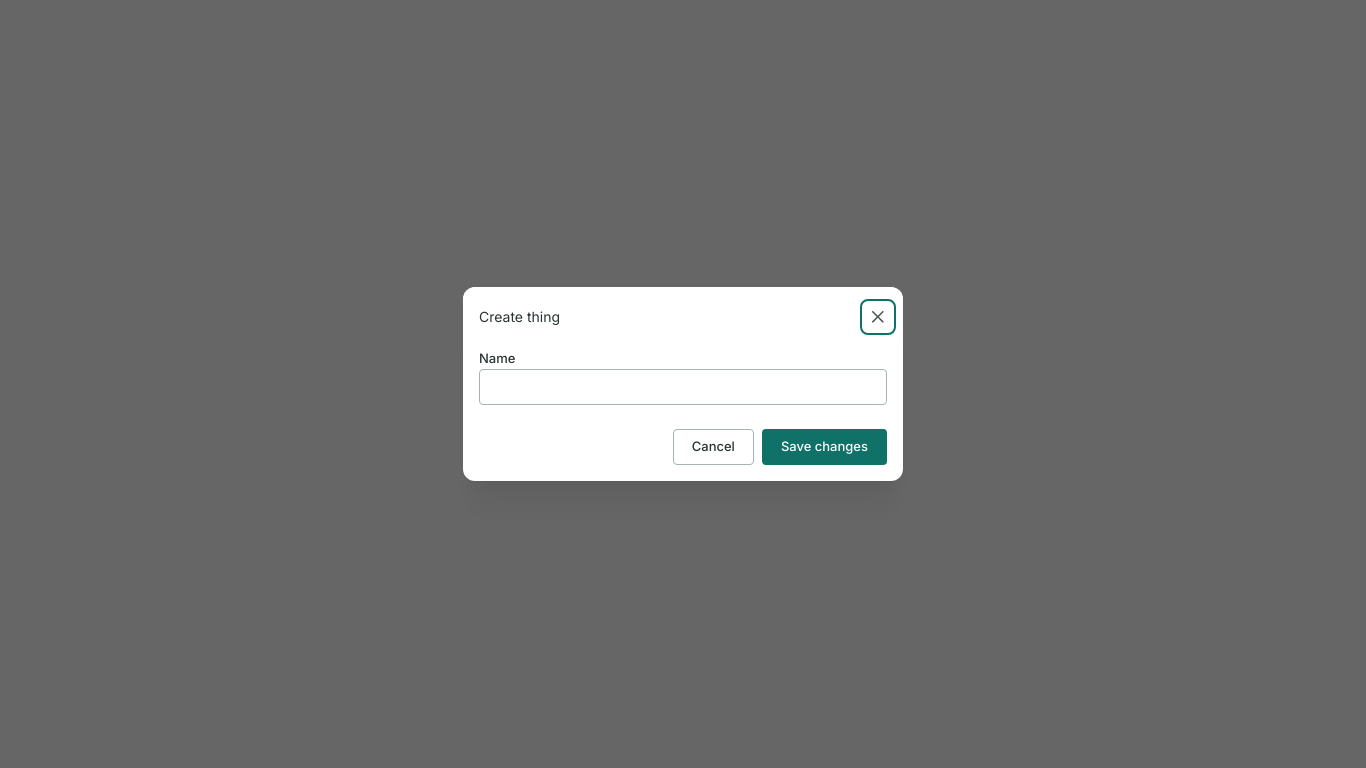
Test case: renderWithProviders error dispatch (D8) › toasts a 402 SUBSCRIPTION_REQUIRED and keeps the dialog open with input intact
Type "New Clinic" into the field labelled "Name" at (683, 387), box [479,369,887,405]
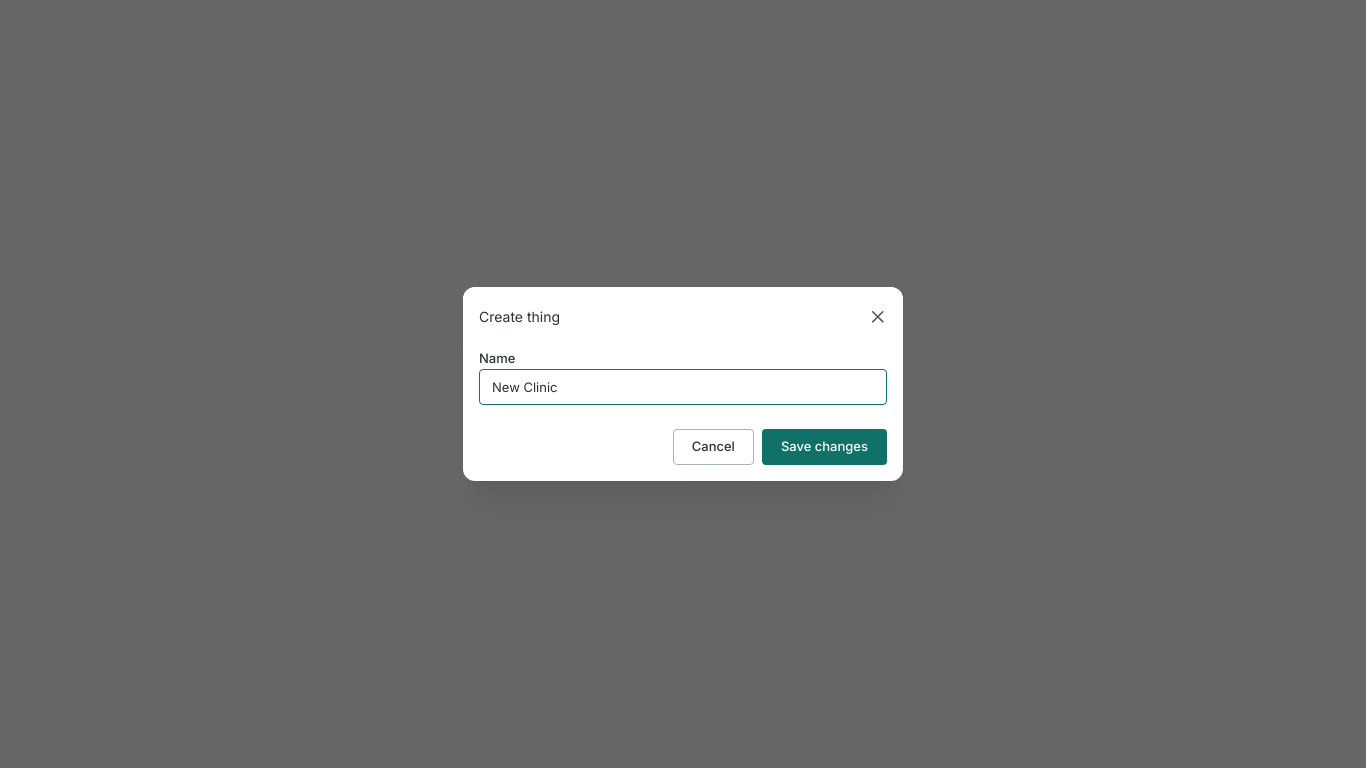
Click the button "Save changes" at (824, 447), box [762,429,887,465]
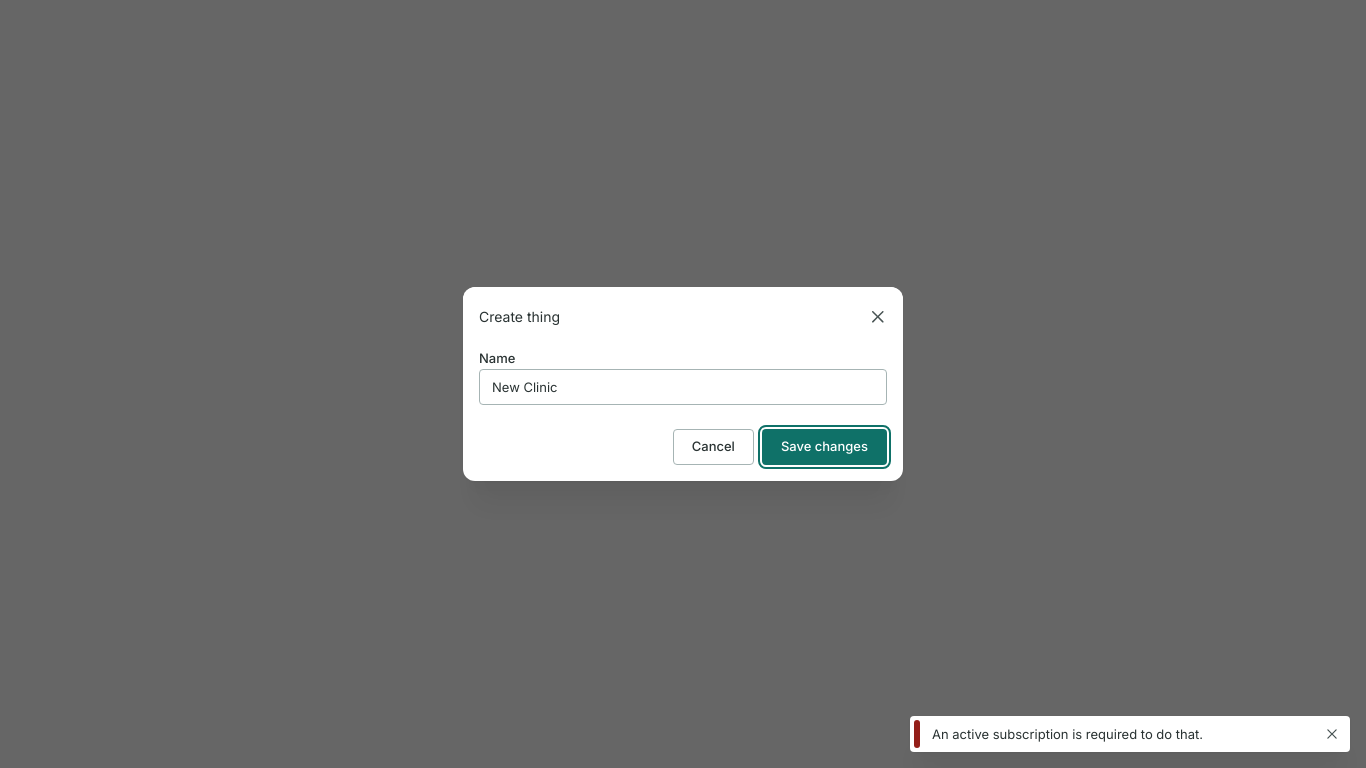
Expected: the dialog "Create thing" is shown, [463,287,903,481]
Now the text "An active subscription is required to do that." is shown, box [932,726,1203,742]
